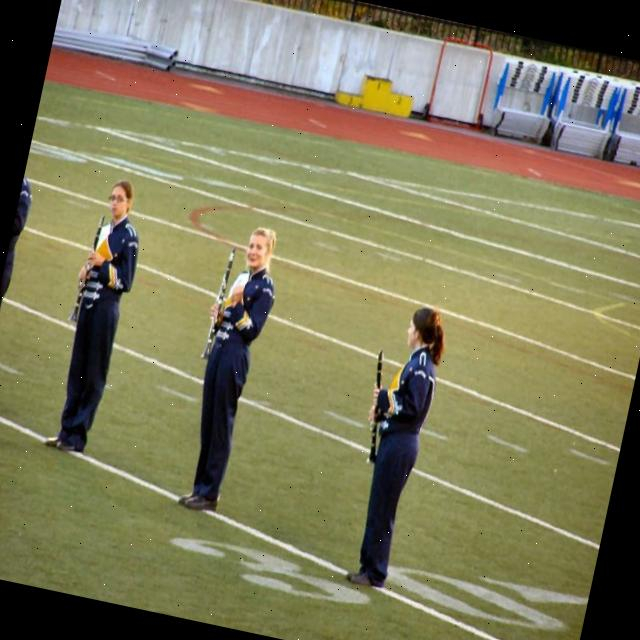clarinet: (352, 347, 401, 466), (66, 210, 109, 326), (199, 243, 240, 362)
